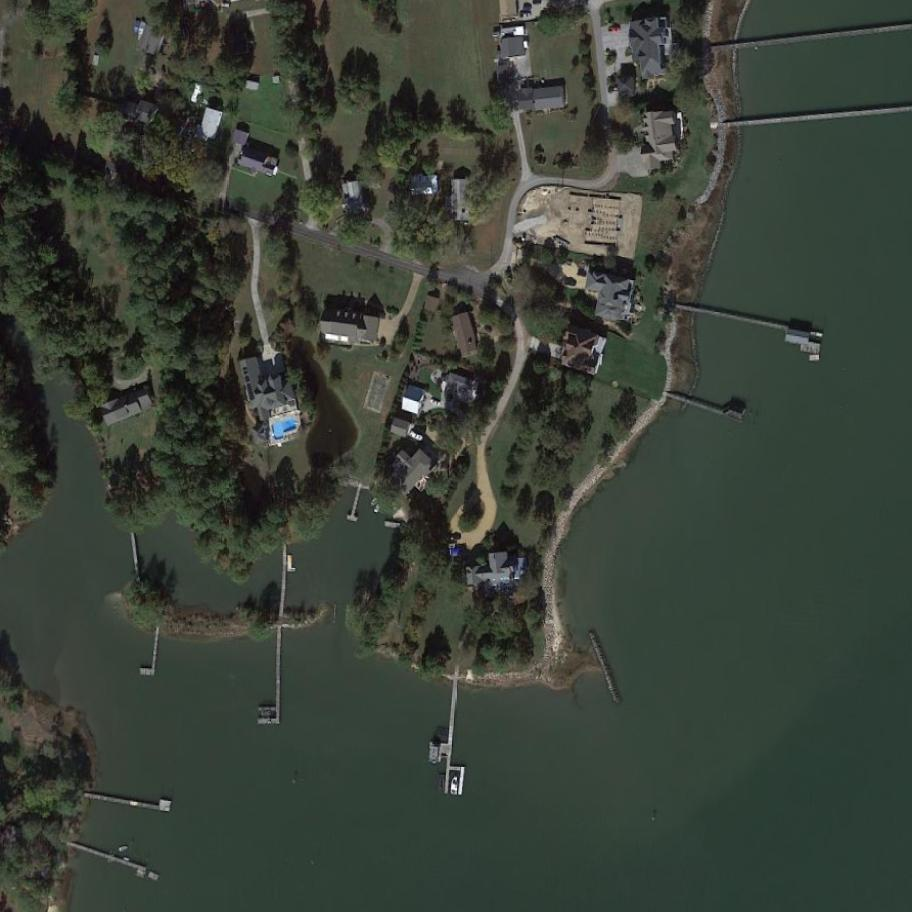ship: (448, 775, 460, 796)
small-vehicle: (608, 26, 622, 35)
